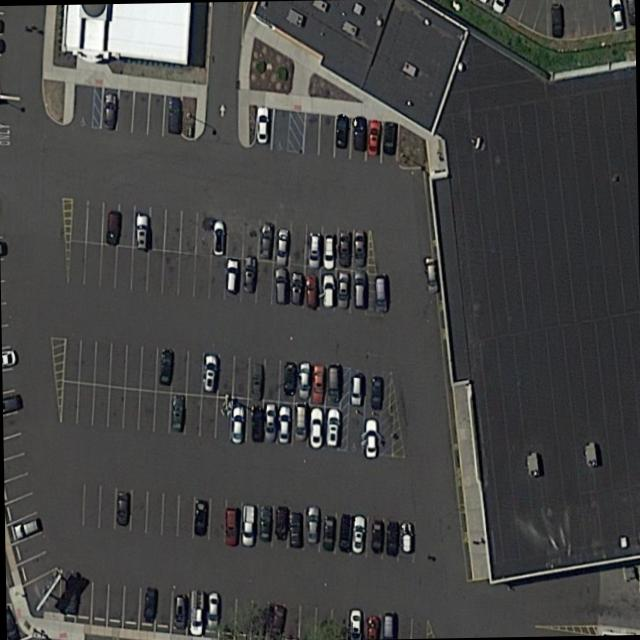small-vehicle: (309, 364, 324, 407), (349, 515, 365, 555), (267, 605, 285, 640), (422, 254, 437, 295), (257, 222, 273, 260), (12, 517, 38, 540), (241, 502, 254, 547), (158, 347, 172, 387), (337, 513, 351, 553), (166, 97, 181, 134), (254, 106, 268, 145), (274, 228, 288, 267), (229, 405, 243, 444), (202, 354, 216, 393), (325, 409, 339, 448), (309, 407, 322, 449), (189, 590, 201, 635), (608, 0, 624, 32), (327, 364, 340, 403), (277, 405, 290, 444), (352, 271, 365, 309), (223, 508, 236, 546), (305, 506, 318, 544), (263, 404, 276, 442), (250, 363, 263, 401), (294, 401, 306, 442), (365, 121, 379, 156), (273, 507, 287, 542), (242, 256, 255, 293), (273, 268, 286, 305), (372, 275, 385, 312), (205, 591, 217, 631), (224, 259, 238, 293), (334, 115, 348, 149), (282, 362, 296, 396), (103, 92, 115, 131), (211, 220, 224, 256), (193, 500, 206, 536), (298, 361, 310, 400), (170, 394, 182, 432), (135, 211, 147, 249), (258, 504, 270, 542), (307, 233, 320, 268), (142, 588, 155, 623), (369, 520, 382, 555), (289, 511, 301, 548), (105, 211, 118, 245), (364, 419, 375, 459), (305, 273, 317, 309), (322, 515, 334, 551), (250, 406, 262, 442), (289, 272, 302, 305), (321, 274, 334, 307), (352, 118, 365, 151), (382, 122, 395, 155), (549, 4, 562, 37), (323, 232, 334, 269), (338, 230, 349, 267), (173, 593, 184, 630), (116, 490, 127, 526), (336, 272, 347, 308), (352, 230, 363, 266), (385, 522, 396, 557), (348, 608, 360, 640), (369, 378, 381, 410), (399, 523, 411, 554), (349, 375, 361, 406)
